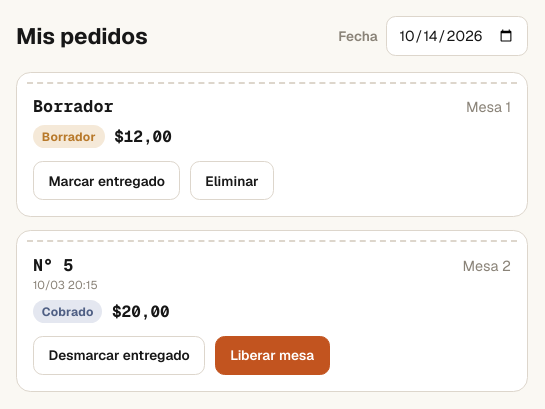
Test case: MyOrdersList (T67, RF-8/10) › releases a paid table and the button disappears after refreshing
The width and height of the screenshot is (545, 409).
Expected: the text "Mesa 1" is shown, [466,98,511,116]
Step 1. Click the button "Liberar mesa" → (272, 356), box [215,336,330,375]
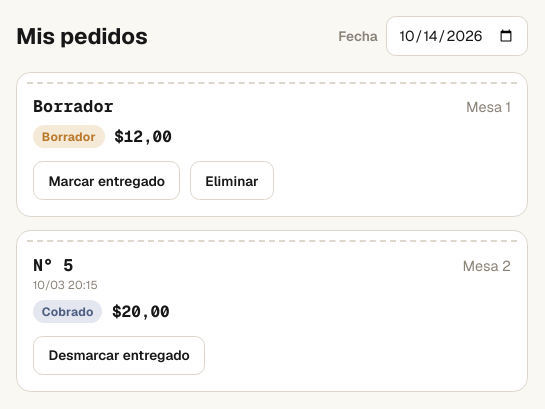
Now the button "Liberar mesa" is gone
